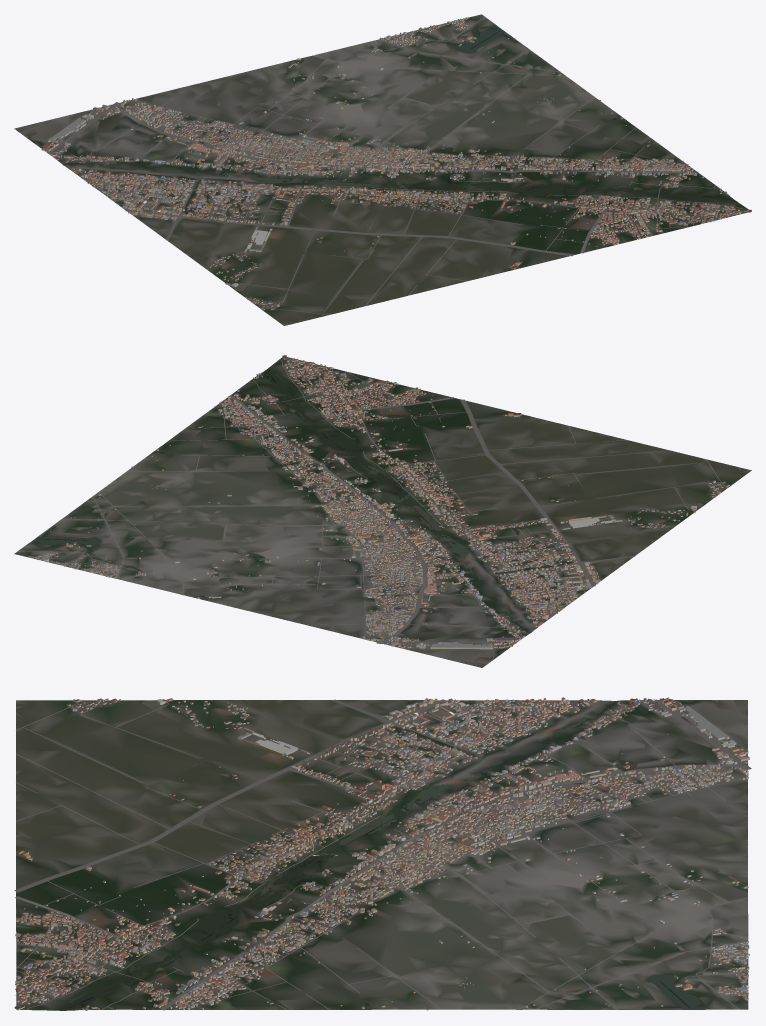
3 views of the same model, one above another, from view 1: azimuth 30°, elevation 25°; view 2: azimuth 150°, elevation 25°; view 3: azimuth 270°, elevation 25° (orthographic). The views are drawn at different scales.
Visible parts, largest first — view 1: ground, buildings, roads, water; view 2: ground, buildings, roads, water; view 3: ground, buildings, roads, water.
Part boxes in pixels (x1,y1,x2,y2): ground: [14, 14, 751, 325]; buildings: [41, 17, 751, 310]; roads: [26, 17, 747, 314]; water: [64, 26, 737, 291]; ground: [14, 357, 751, 667]; buildings: [28, 355, 729, 649]; roads: [17, 357, 727, 663]; water: [31, 366, 703, 632]; ground: [16, 700, 748, 1010]; buildings: [14, 697, 749, 1010]; roads: [14, 699, 751, 1010]; water: [53, 700, 703, 1010].
Size of the model in its own units: 2825 by 33.81 by 2826.
